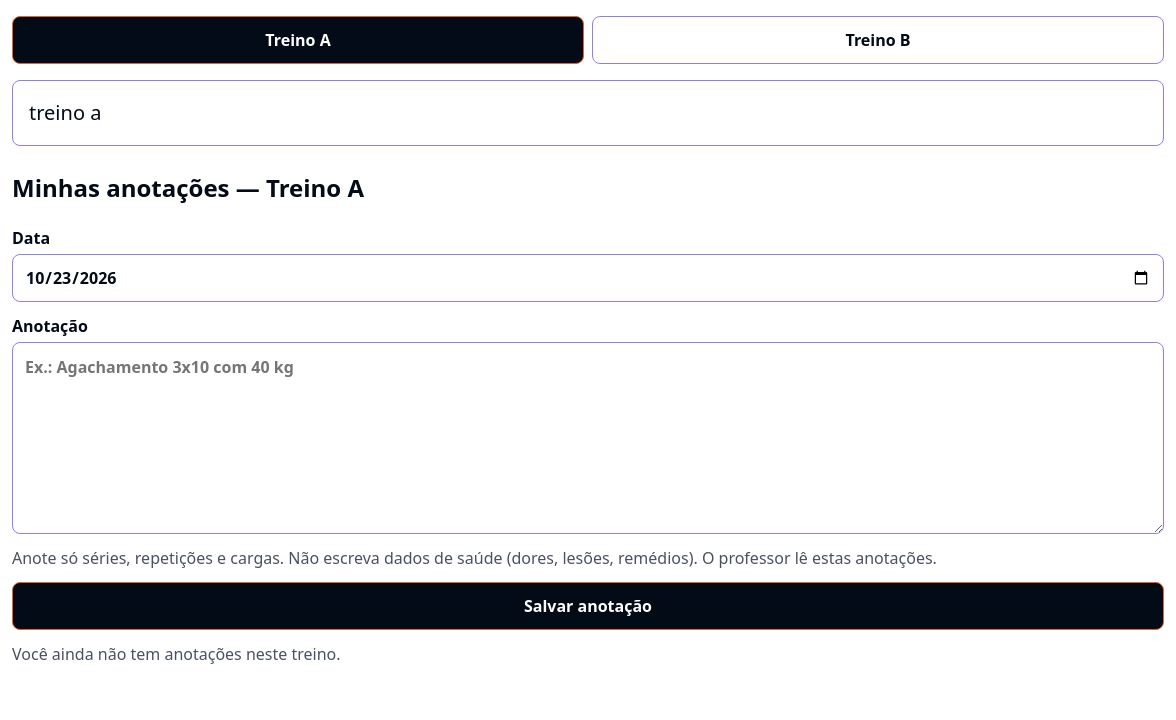
Test: MinhaFicha › troca de treino ao tocar na aba
The image size is (1176, 720).
Click the tab "Treino B" at (878, 40), box [592,16,1164,64]
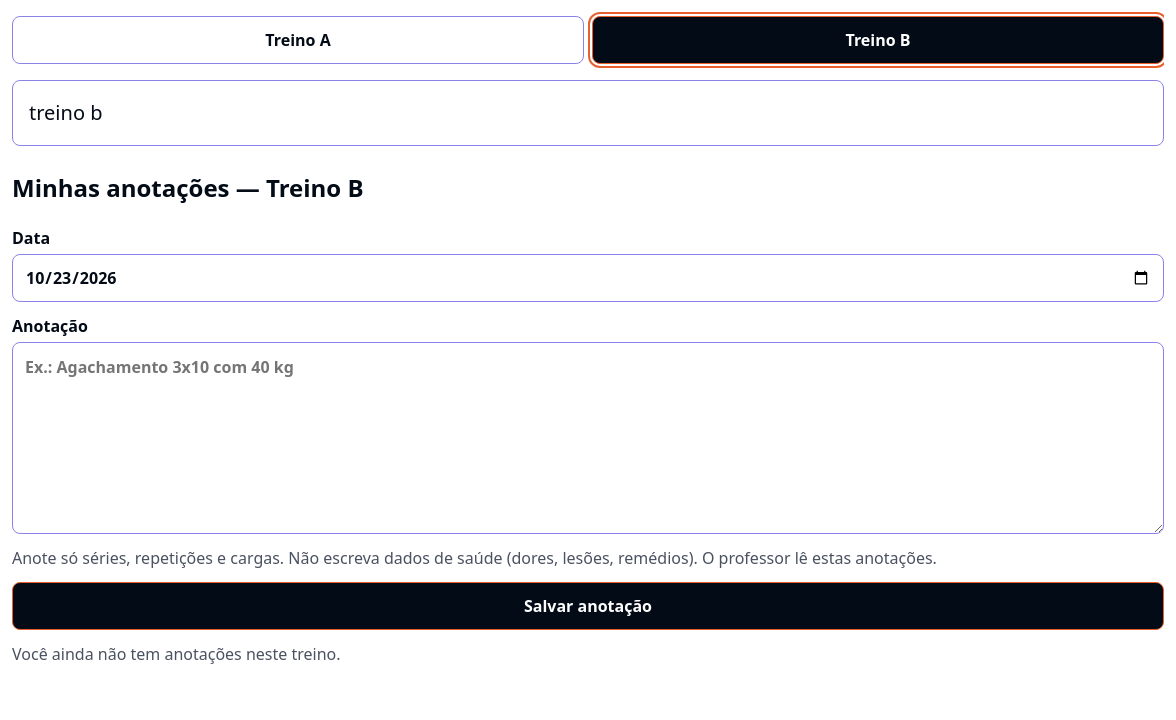
Result: the text "treino b" is shown at [12,80,1164,146]
